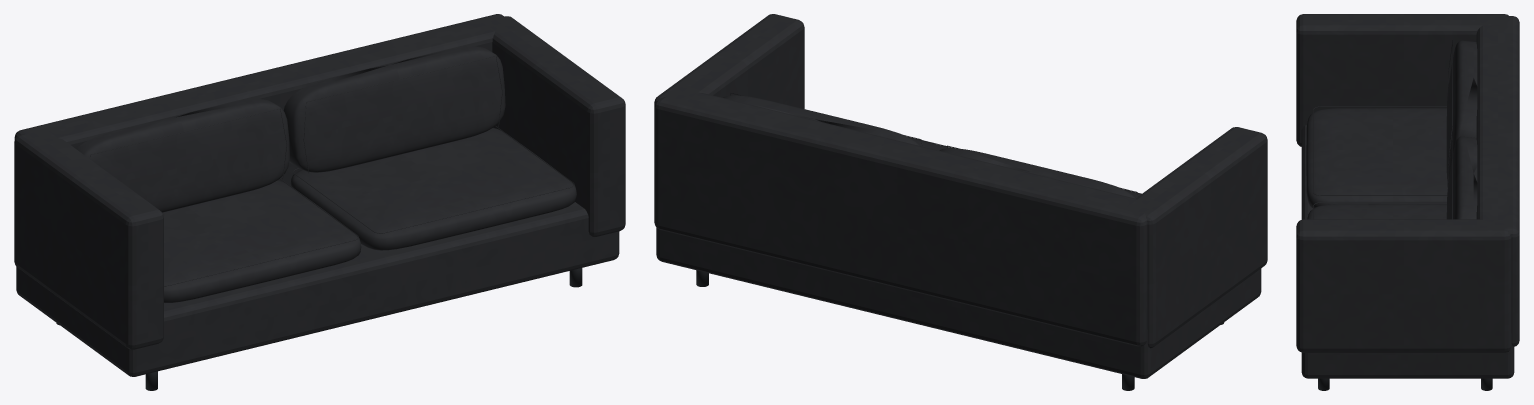
Rendered from FUR_Sofa.fbx.
The picture shows the model from 3 angles, left to right: view 1: azimuth 30°, elevation 25°; view 2: azimuth 150°, elevation 25°; view 3: azimuth 270°, elevation 25°; orthographic projection. The views are drawn at different scales.
Visible parts, largest first — view 1: FUR_Sofa_Export; view 2: FUR_Sofa_Export; view 3: FUR_Sofa_Export.
Boxes of the visible parts, x1=… form: FUR_Sofa_Export: x1=14, y1=14, x2=625, y2=390; FUR_Sofa_Export: x1=654, y1=14, x2=1267, y2=390; FUR_Sofa_Export: x1=1296, y1=14, x2=1519, y2=390.
Size of the model in its own units: 2 by 0.72 by 0.85.
2 materials, 1 textured.
